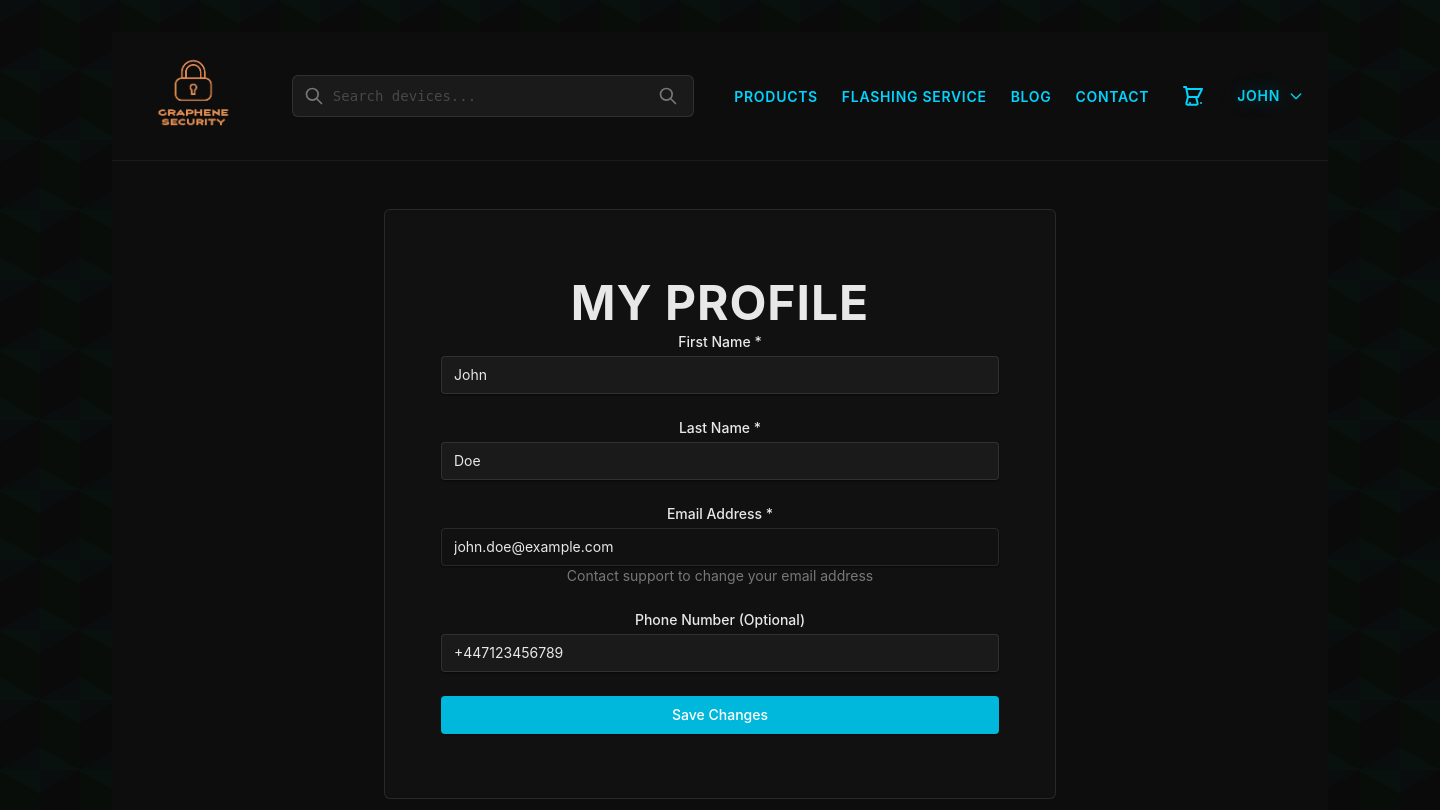
Profile Flow Integration Tests › should show loading state during form submission
This screenshot has width=1440, height=810.
expect the heading "My Profile" is shown: met, box [571, 273, 869, 332]
expect the field showing "John" is shown: met, box [441, 356, 999, 394]
// Submit the form
Step 1. Click the button "Save Changes" → coordinates (720, 715), box [441, 696, 999, 734]
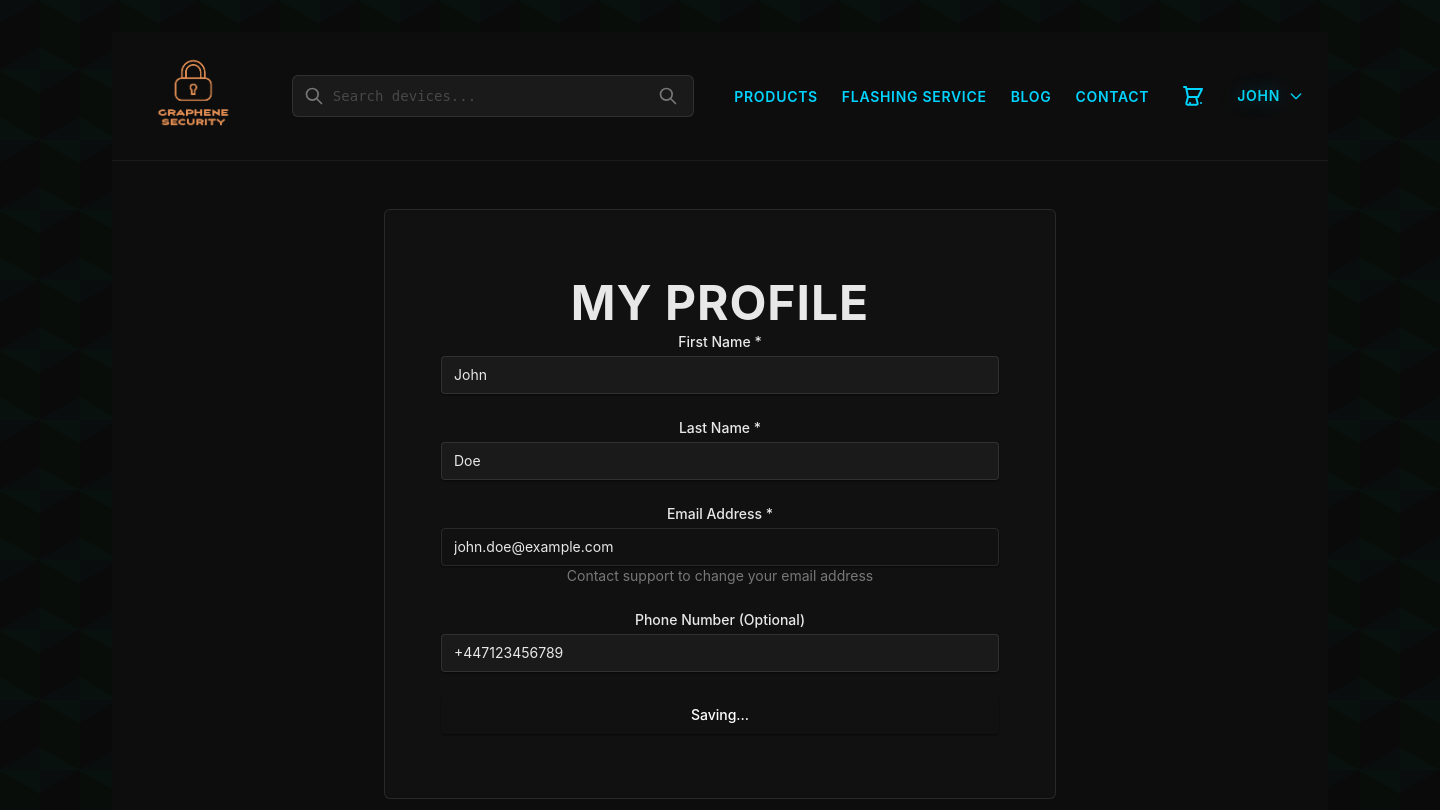
expect the field labelled "First Name *" is disabled: met, box [441, 356, 999, 394]
expect the button "Saving..." is disabled: met, box [441, 696, 999, 734]
